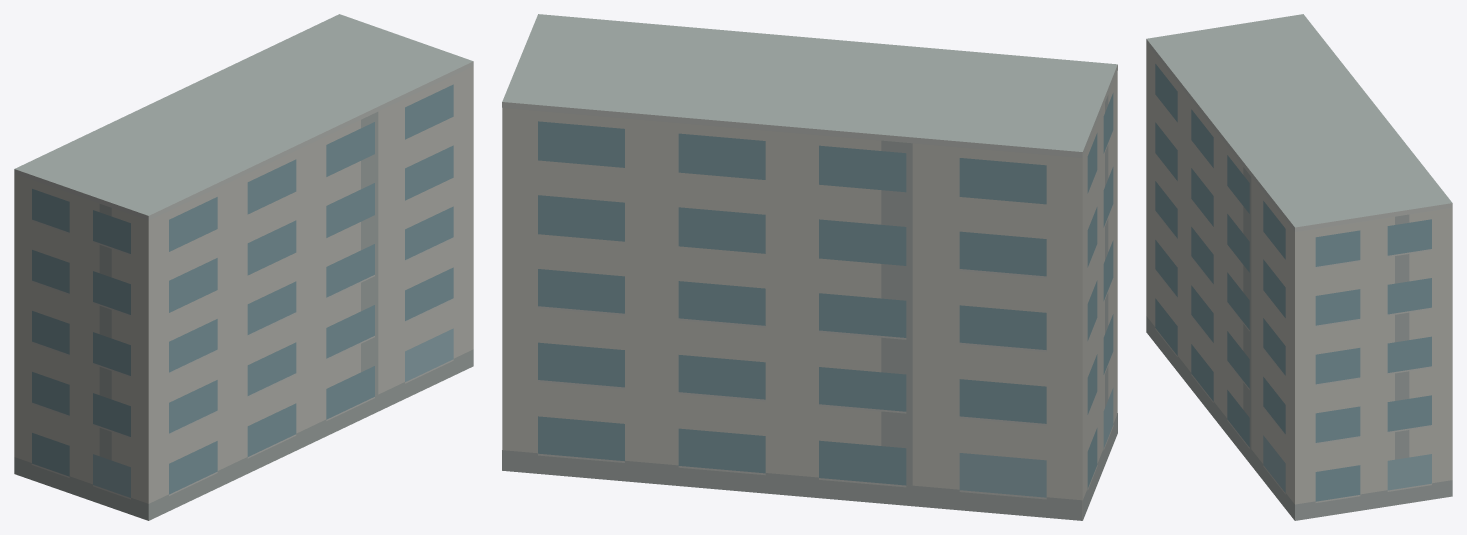
Rendered from residential-ecb00c0d-78cf-4a7c-ad53-0368fe81a641.glb.
3 renders of one model, left to right at view 1: azimuth 30°, elevation 25°; view 2: azimuth 150°, elevation 25°; view 3: azimuth 270°, elevation 25°, orthographic. The views are drawn at different scales.
Parts seen in each view (by area): view 1: residential-ecb00c0d-78cf-4a7c-ad53-0368fe81a641.tmp; view 2: residential-ecb00c0d-78cf-4a7c-ad53-0368fe81a641.tmp; view 3: residential-ecb00c0d-78cf-4a7c-ad53-0368fe81a641.tmp.
Boxes of the visible parts, bbox=[...] form: residential-ecb00c0d-78cf-4a7c-ad53-0368fe81a641.tmp: bbox=[14, 14, 473, 520]; residential-ecb00c0d-78cf-4a7c-ad53-0368fe81a641.tmp: bbox=[502, 14, 1117, 520]; residential-ecb00c0d-78cf-4a7c-ad53-0368fe81a641.tmp: bbox=[1146, 14, 1452, 520].
Bounding box in the file's own units: 23.81 × 15.25 × 14.44.
